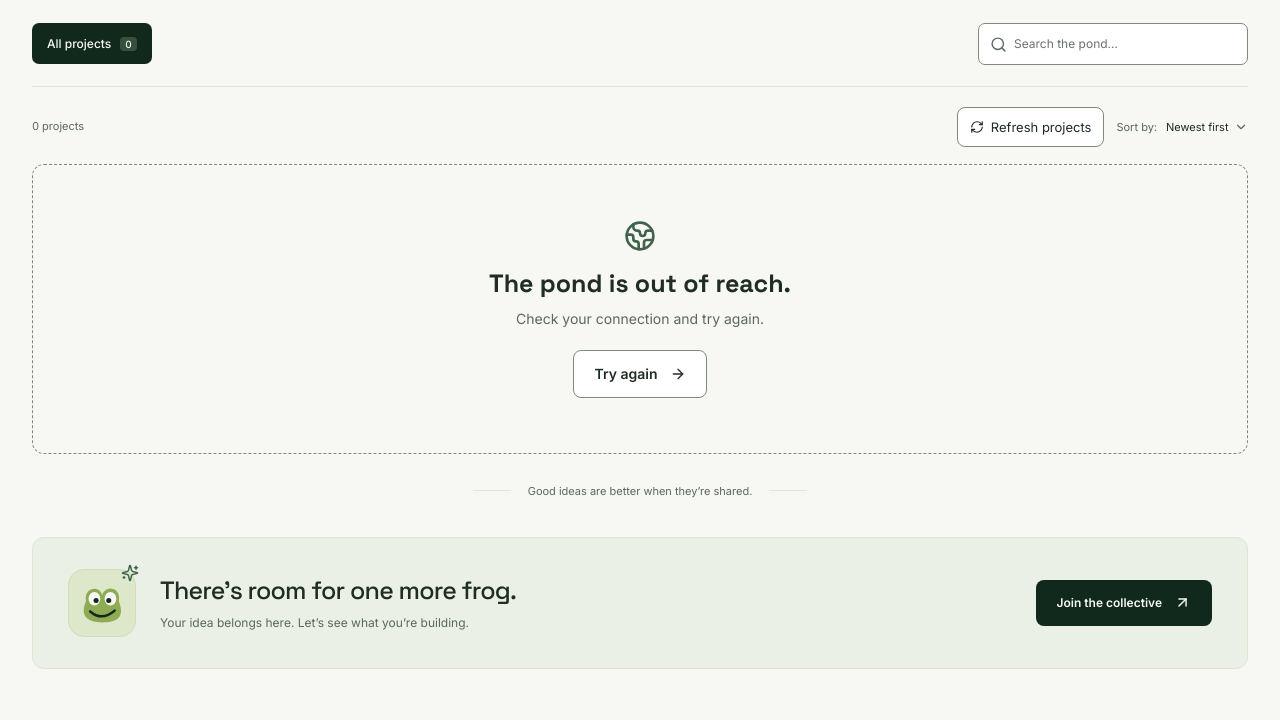
Scenario: public project directory › retries a failed directory request without showing fictional fallback data
(page scrolled)
Expected: the message "The pond is out of reach. Check your connection and try again. Try again" is shown, [32,164,1248,454]
Click the button "Try again": (640, 374) [574,350,707,398]
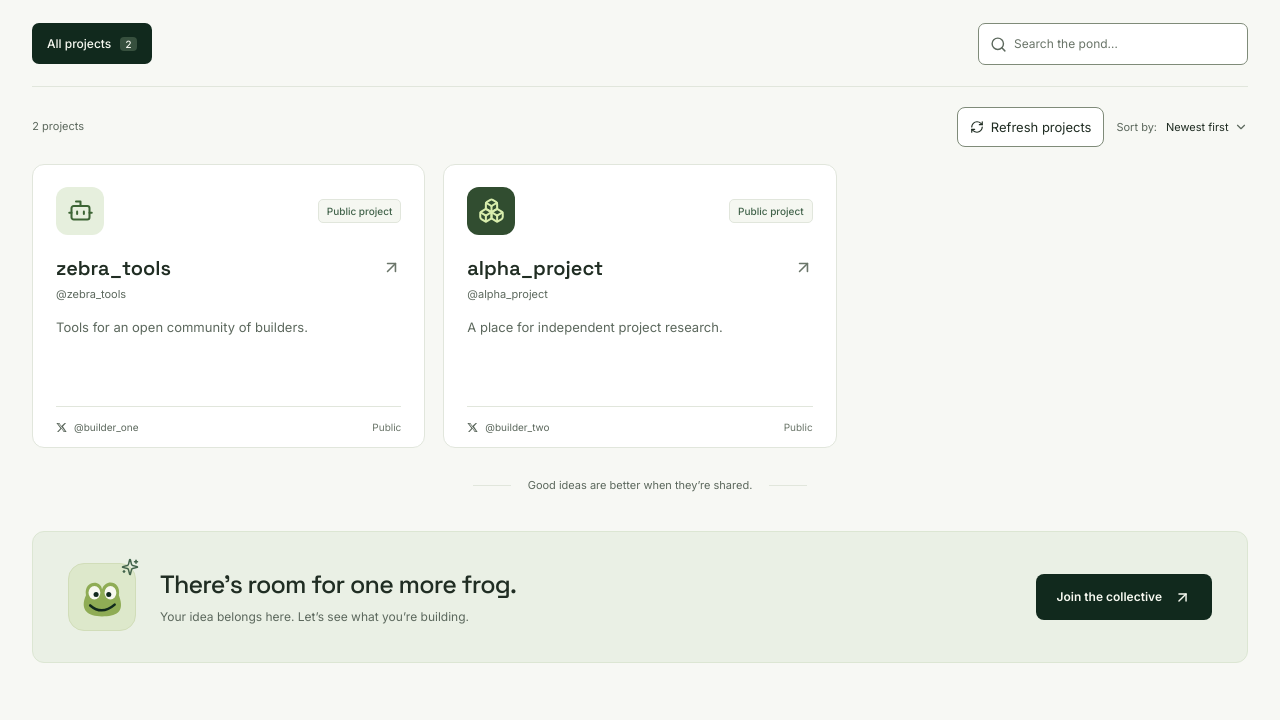
Expected: the button "zebra_tools" is shown, [56,253,401,283]
